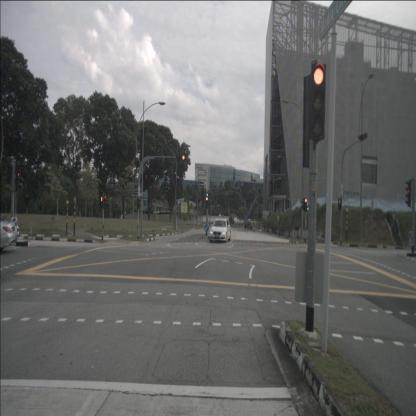vehicle-car: (0, 214, 18, 251), (209, 218, 231, 243)
